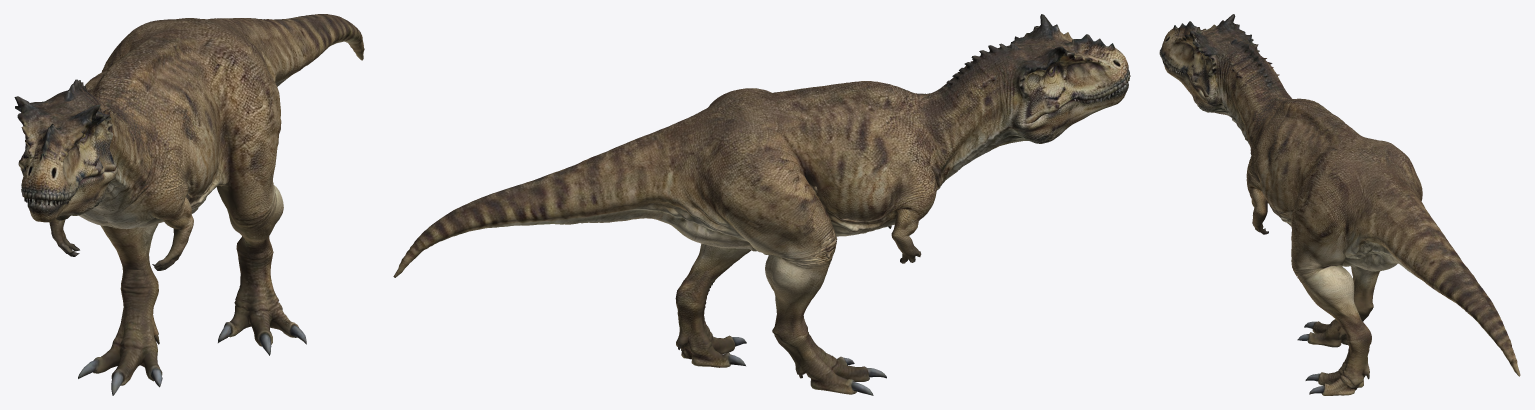
The model's file is rajasaurus.glb.
3 views of the same model, side by side, from view 1: azimuth 30°, elevation 25°; view 2: azimuth 150°, elevation 25°; view 3: azimuth 270°, elevation 25° (orthographic). The views are drawn at different scales.
Visible parts, largest first — view 1: tripo_node_4bd217b2-d9a8-448d-9817-dc42f9a7e13f; view 2: tripo_node_4bd217b2-d9a8-448d-9817-dc42f9a7e13f; view 3: tripo_node_4bd217b2-d9a8-448d-9817-dc42f9a7e13f.
Boxes of the visible parts, bbox=[...] form: tripo_node_4bd217b2-d9a8-448d-9817-dc42f9a7e13f: bbox=[14, 14, 364, 395]; tripo_node_4bd217b2-d9a8-448d-9817-dc42f9a7e13f: bbox=[393, 14, 1130, 395]; tripo_node_4bd217b2-d9a8-448d-9817-dc42f9a7e13f: bbox=[1159, 14, 1520, 395].
Bounding box in the file's own units: 0.9841 × 0.6031 × 0.748.
1 material, 1 textured.
